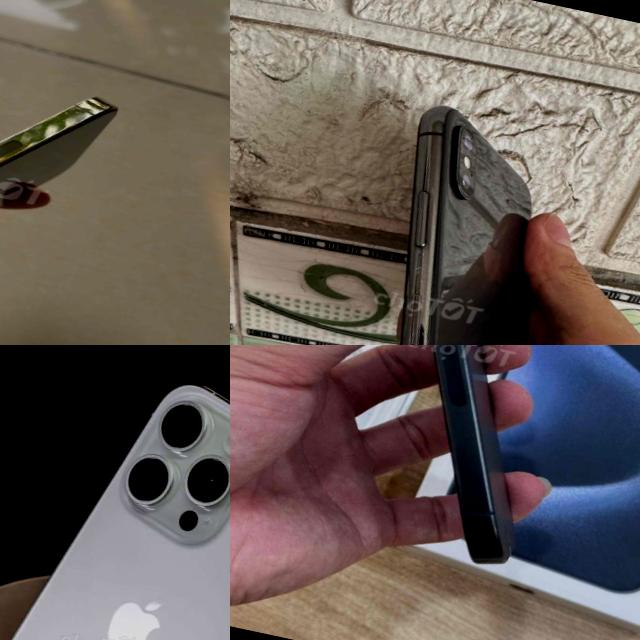gen_12_13: (0, 17, 125, 345)
gen_15: (270, 345, 640, 602), (0, 345, 230, 640)
gen_x_xs: (306, 96, 615, 345)
scratch: (387, 243, 450, 345)
